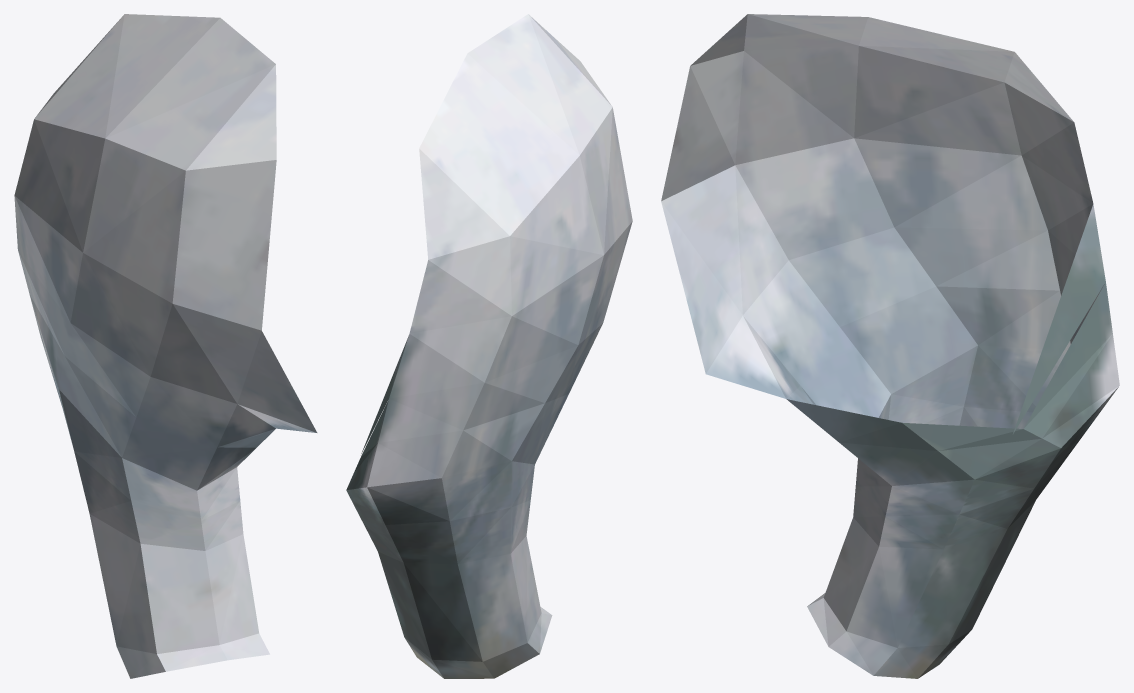
Rendered from Pata1_Delantera_Der.obj.
3 renders of one model, left to right at view 1: azimuth 30°, elevation 25°; view 2: azimuth 150°, elevation 25°; view 3: azimuth 270°, elevation 25°, orthographic. The views are drawn at different scales.
Visible parts, largest first — view 1: Pata1_Delantera_DerpolySurface14polySurface11polySurface8polySur; view 2: Pata1_Delantera_DerpolySurface14polySurface11polySurface8polySur; view 3: Pata1_Delantera_DerpolySurface14polySurface11polySurface8polySur.
Boxes of the visible parts, left/top/right/bottom form: Pata1_Delantera_DerpolySurface14polySurface11polySurface8polySur: left=14, top=14, right=317, bottom=678; Pata1_Delantera_DerpolySurface14polySurface11polySurface8polySur: left=346, top=14, right=632, bottom=678; Pata1_Delantera_DerpolySurface14polySurface11polySurface8polySur: left=661, top=14, right=1119, bottom=678.
Bounding box in the file's own units: 0.0386 × 0.1264 × 0.0805.
Materials: 1 (1 with a texture image).
